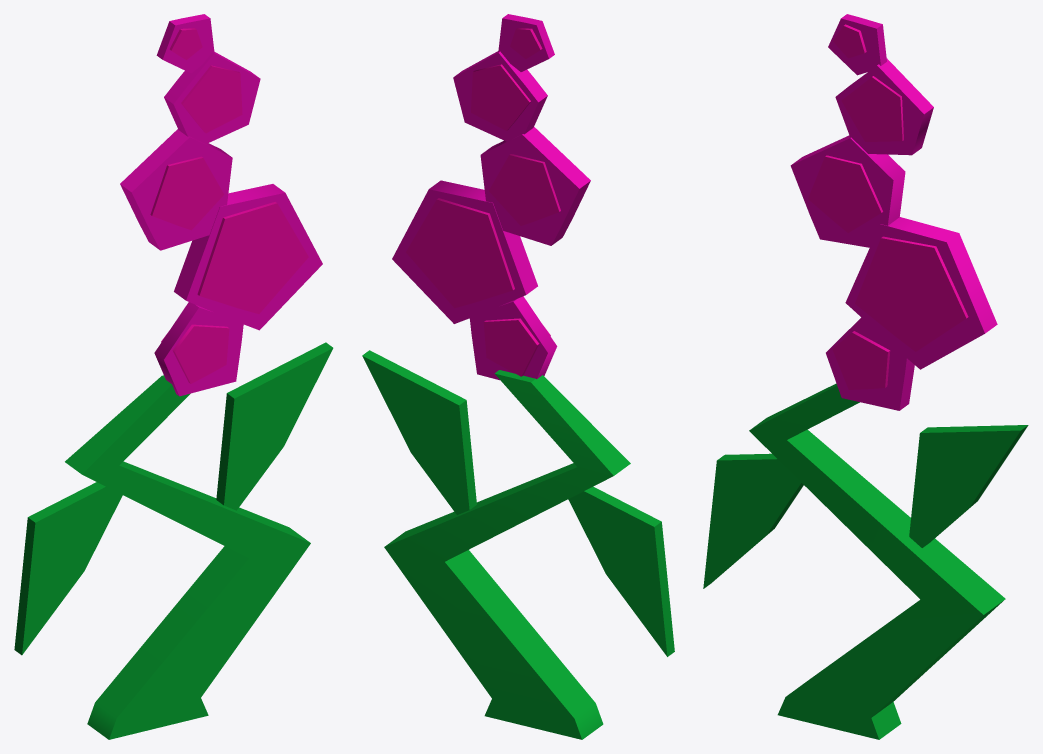
Rendered from dancingflower1.fbx.
3 renders of one model, left to right at view 1: azimuth 30°, elevation 25°; view 2: azimuth 150°, elevation 25°; view 3: azimuth 330°, elevation 25°, orthographic. The views are drawn at different scales.
Parts seen in each view (by area): view 1: stemDanceTransForm1; view 2: stemDanceTransForm1; view 3: stemDanceTransForm1.
Boxes of the visible parts, x1=… form: stemDanceTransForm1: x1=14, y1=14, x2=333, y2=739; stemDanceTransForm1: x1=362, y1=14, x2=674, y2=739; stemDanceTransForm1: x1=703, y1=14, x2=1028, y2=739.
Size of the model in its own units: 3.79 by 8.15 by 0.6126.
